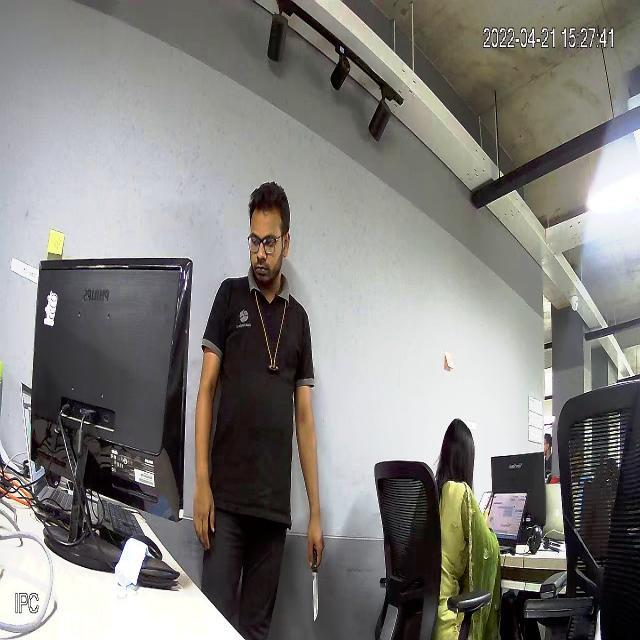Knife: (301, 545, 329, 626)
